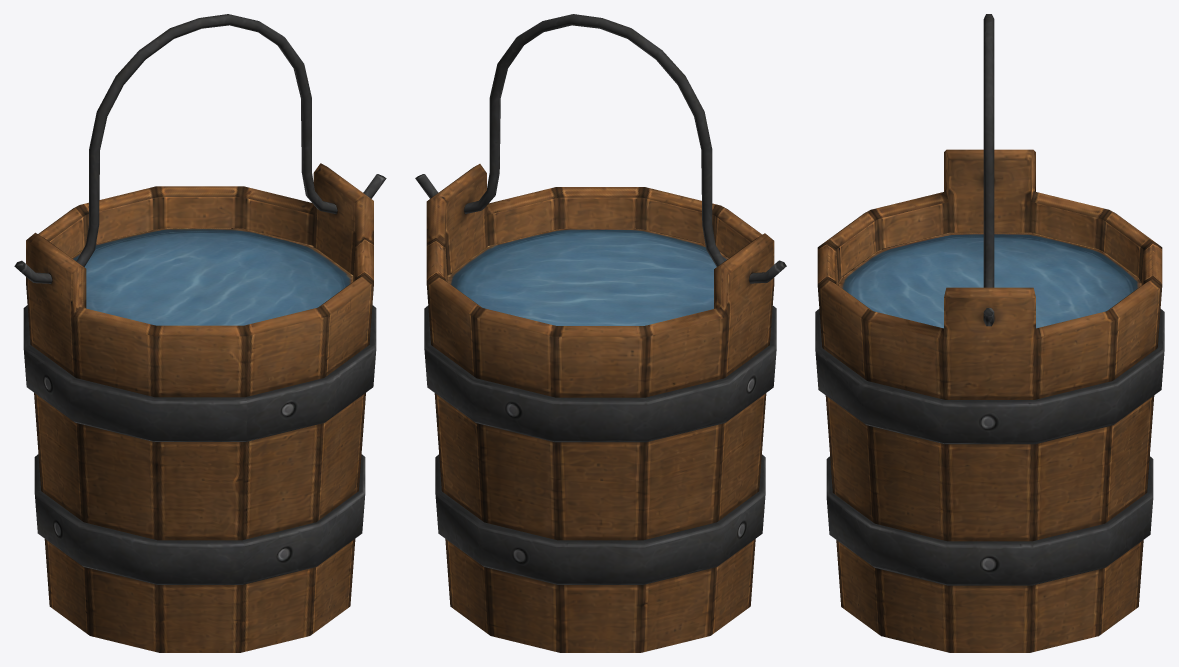
The model's file is Bucket01.fbx.
The picture shows the model from 3 angles, left to right: view 1: azimuth 30°, elevation 25°; view 2: azimuth 150°, elevation 25°; view 3: azimuth 270°, elevation 25°; orthographic projection.
Visible parts, largest first — view 1: Bucket01_LOD0, Contents01_LOD0, Handle01_LOD0; view 2: Bucket01_LOD0, Contents01_LOD0, Handle01_LOD0; view 3: Bucket01_LOD0, Contents01_LOD0, Handle01_LOD0.
Part boxes in pixels (x1=…): Bucket01_LOD0: x1=23, y1=163, x2=376, y2=652; Contents01_LOD0: x1=71, y1=228, x2=353, y2=325; Handle01_LOD0: x1=14, y1=14, x2=386, y2=283; Bucket01_LOD0: x1=424, y1=164, x2=776, y2=652; Contents01_LOD0: x1=447, y1=228, x2=728, y2=325; Handle01_LOD0: x1=415, y1=14, x2=786, y2=283; Bucket01_LOD0: x1=815, y1=149, x2=1164, y2=652; Contents01_LOD0: x1=838, y1=232, x2=1141, y2=328; Handle01_LOD0: x1=983, y1=14, x2=994, y2=326.
Size of what is drawn, in the model's own units: 0.4775 by 0.705 by 0.3949.
